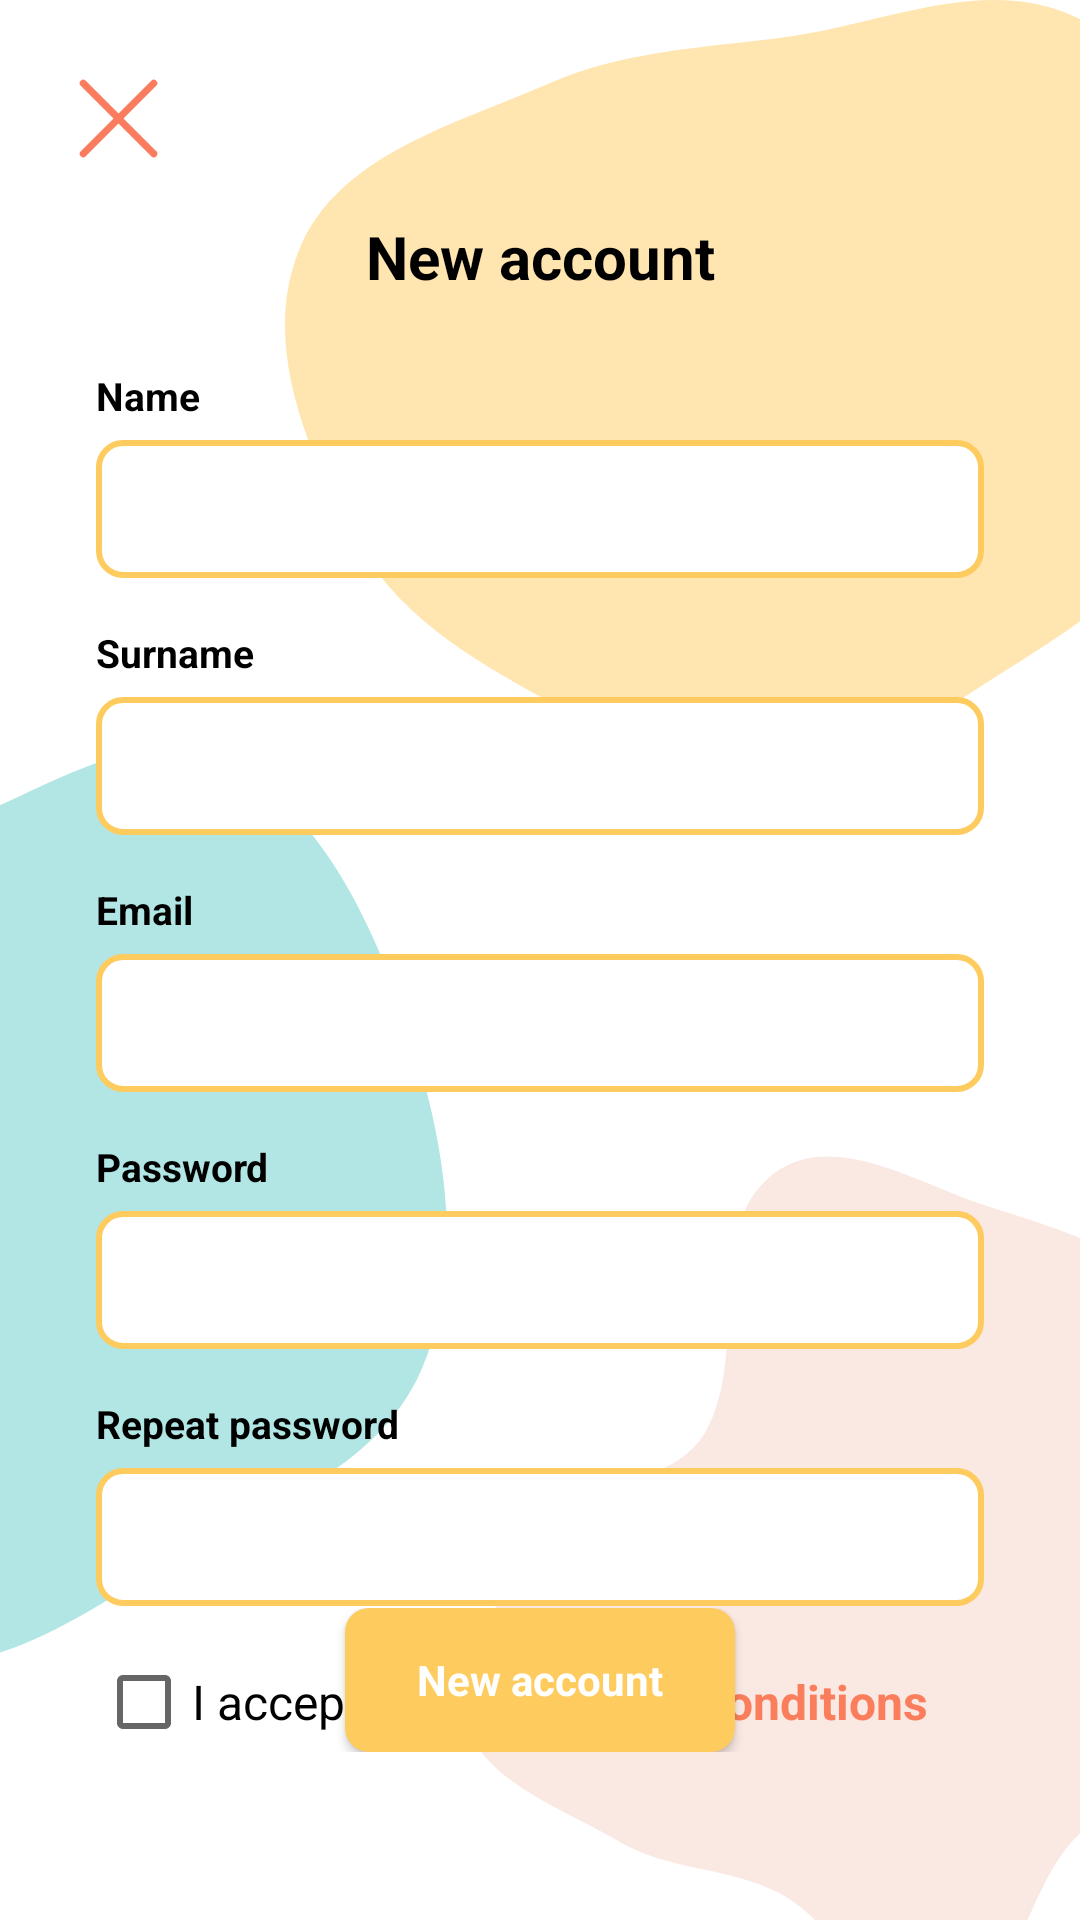

Icon bounding boxes for this 1080 x 1920 phone screenshot, format box(x1, y1, x2, y2):
close: box(79, 79, 158, 158)
